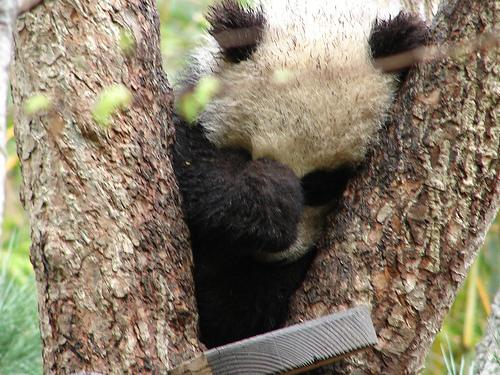panda: (172, 0, 445, 347)
